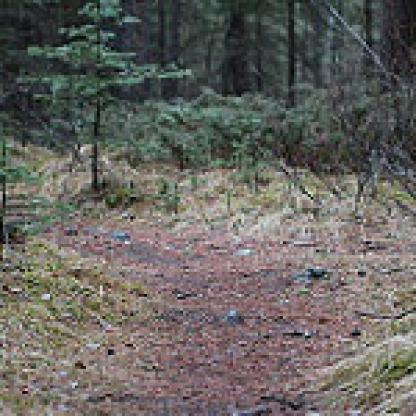tree: (36, 0, 191, 208)
